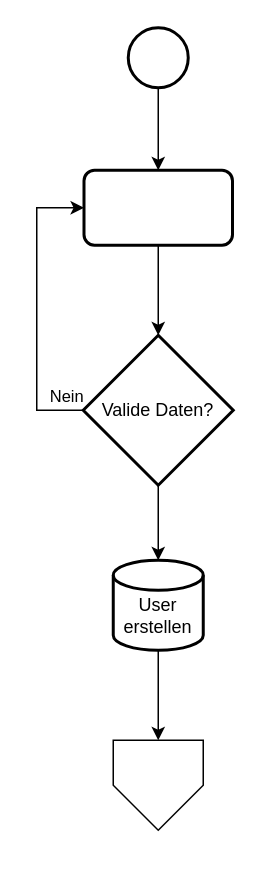
This 261x887 diagram has some shape labels left out. Here are the shapes that lost their labels. From the top down, the box of each, then its label:
(82, 168, 233, 246): Registrierungs Daten eingeben
(112, 739, 203, 830): Login Seite
